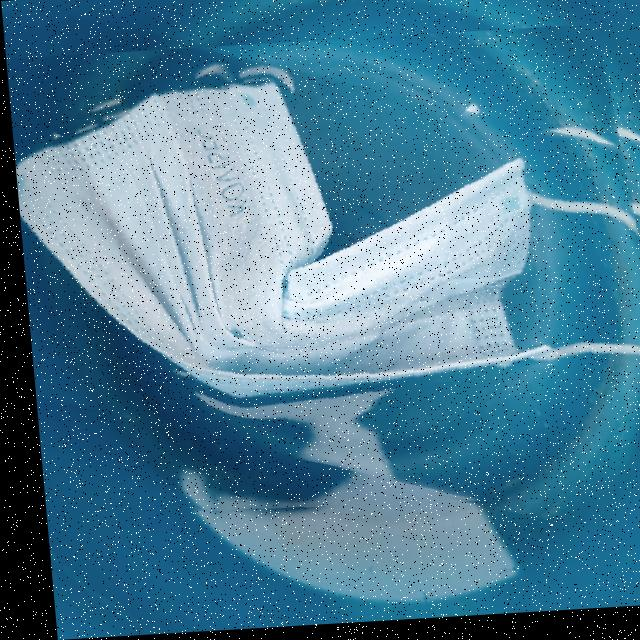litter: (4, 28, 640, 530)
